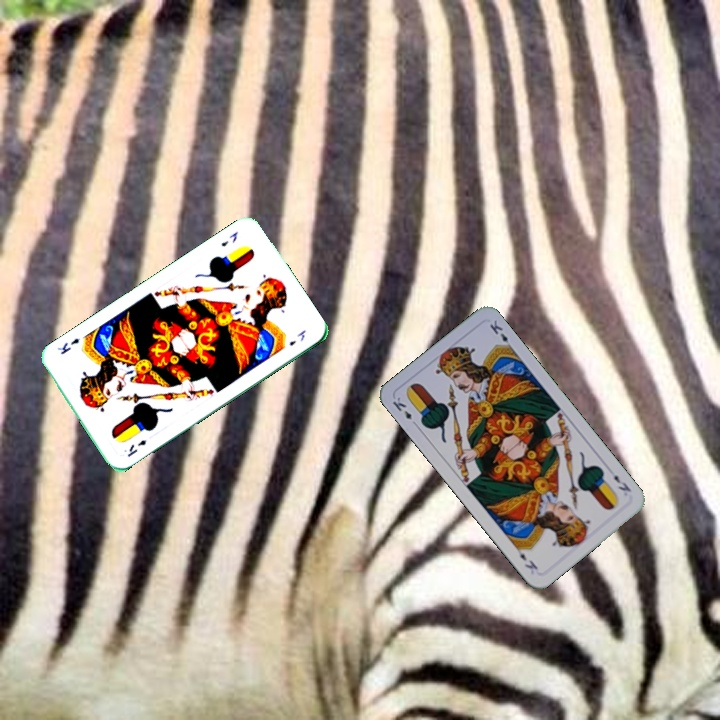EK: (389, 393, 420, 429), (123, 435, 149, 459), (610, 470, 634, 495), (217, 228, 241, 249)
